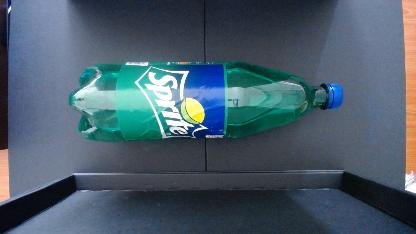Plastic Bottle: (69, 62, 343, 142)
